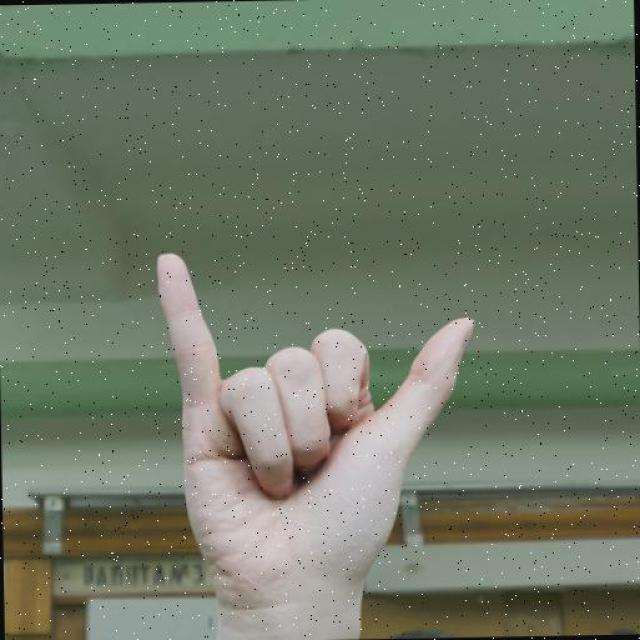Y: (142, 229, 491, 632)
